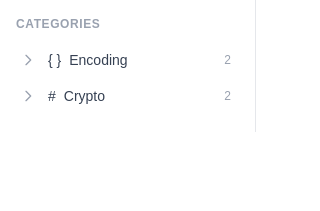
Test: Sidebar › expandable categories › hides tools when category is collapsed after being expanded
Click the button named "expand encoding" at [28, 60], box [16,48,40,72]
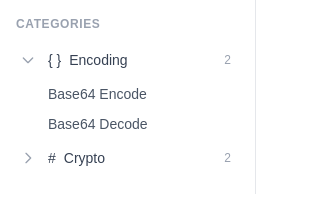
Check: the link "Base64 Encode" is shown, box [48,86,147,102]
Click the button named "expand encoding" at [28, 60], box [16,48,40,72]
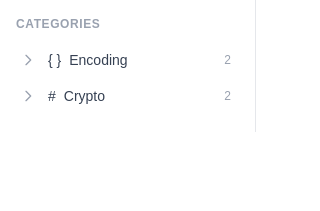
Check: the link "Base64 Encode" is gone
